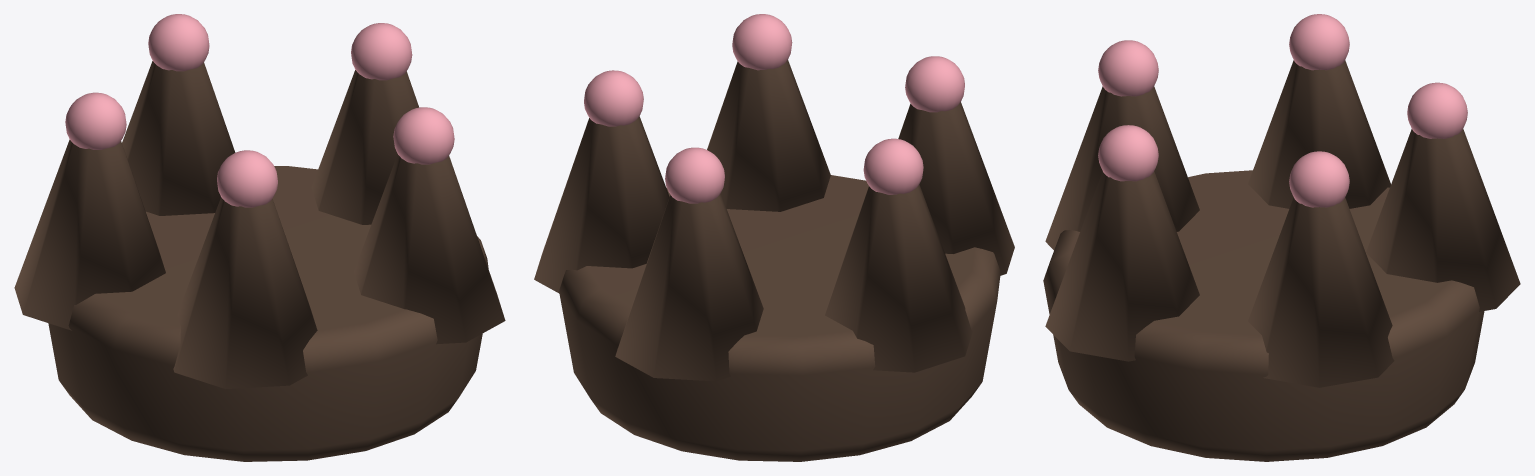
The model's file is acc_crown.glb.
The picture shows the model from 3 angles, left to right: view 1: azimuth 30°, elevation 25°; view 2: azimuth 150°, elevation 25°; view 3: azimuth 270°, elevation 25°; orthographic projection. The views are drawn at different scales.
Visible parts, largest first — view 1: acc_crown; view 2: acc_crown; view 3: acc_crown.
Part boxes in pixels (x1,y1,x2,y2): acc_crown: (14, 14, 505, 461); acc_crown: (534, 14, 1014, 461); acc_crown: (1043, 14, 1520, 461).
Bounding box in the file's own units: 0.1294 × 0.0874 × 0.1257.
